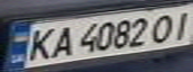0: (97, 19, 118, 52)
2: (127, 15, 154, 47)
4: (75, 19, 100, 54)
8: (112, 16, 136, 51)
A: (45, 24, 78, 58)
I: (166, 7, 193, 39)
K: (21, 25, 60, 63)
O: (145, 11, 181, 43)
